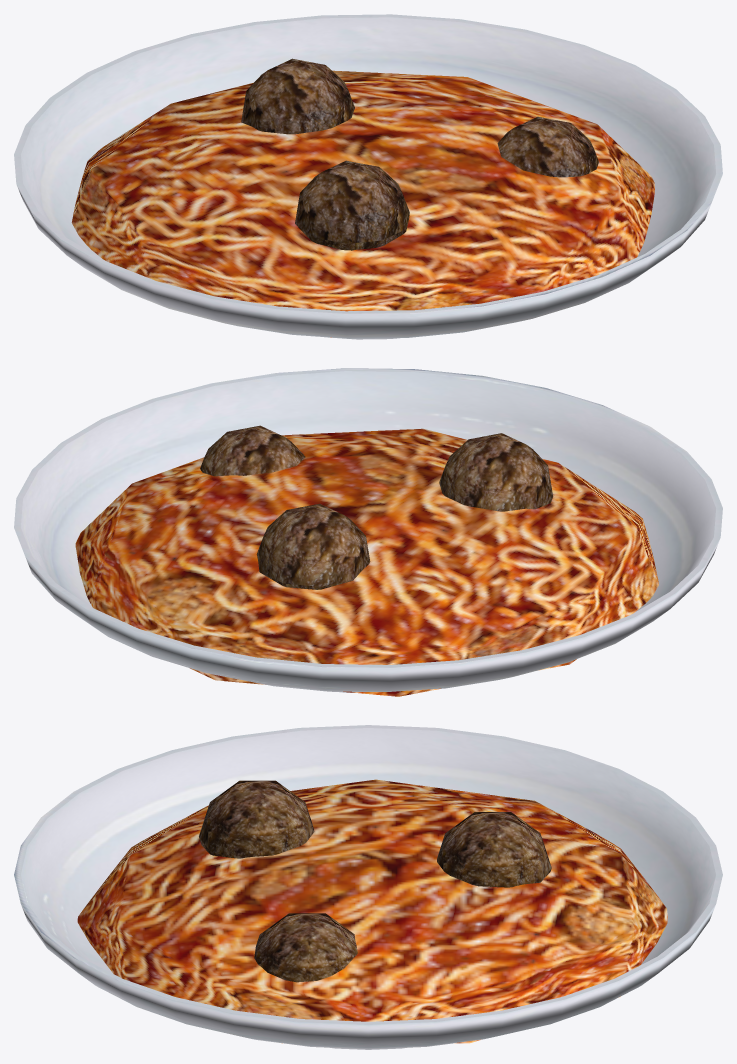
The model's file is FoodPlate.fbx.
3 views of the same model, one above another, from view 1: azimuth 30°, elevation 25°; view 2: azimuth 150°, elevation 25°; view 3: azimuth 270°, elevation 25° (orthographic).
Parts seen in each view (by area): view 1: Sphere; view 2: Sphere; view 3: Sphere.
Part boxes in pixels (x1,y1,x2,y2): Sphere: (14, 14, 722, 339); Sphere: (14, 368, 722, 696); Sphere: (14, 725, 722, 1049).
Bounding box in the file's own units: 200 × 49.92 × 200.
